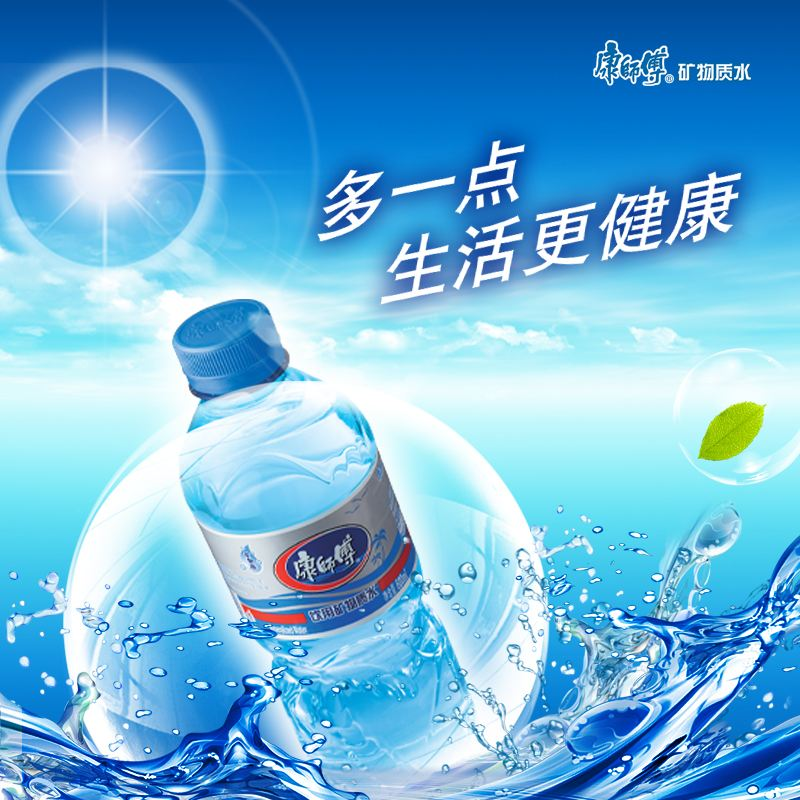amwater: (135, 293, 504, 797)
